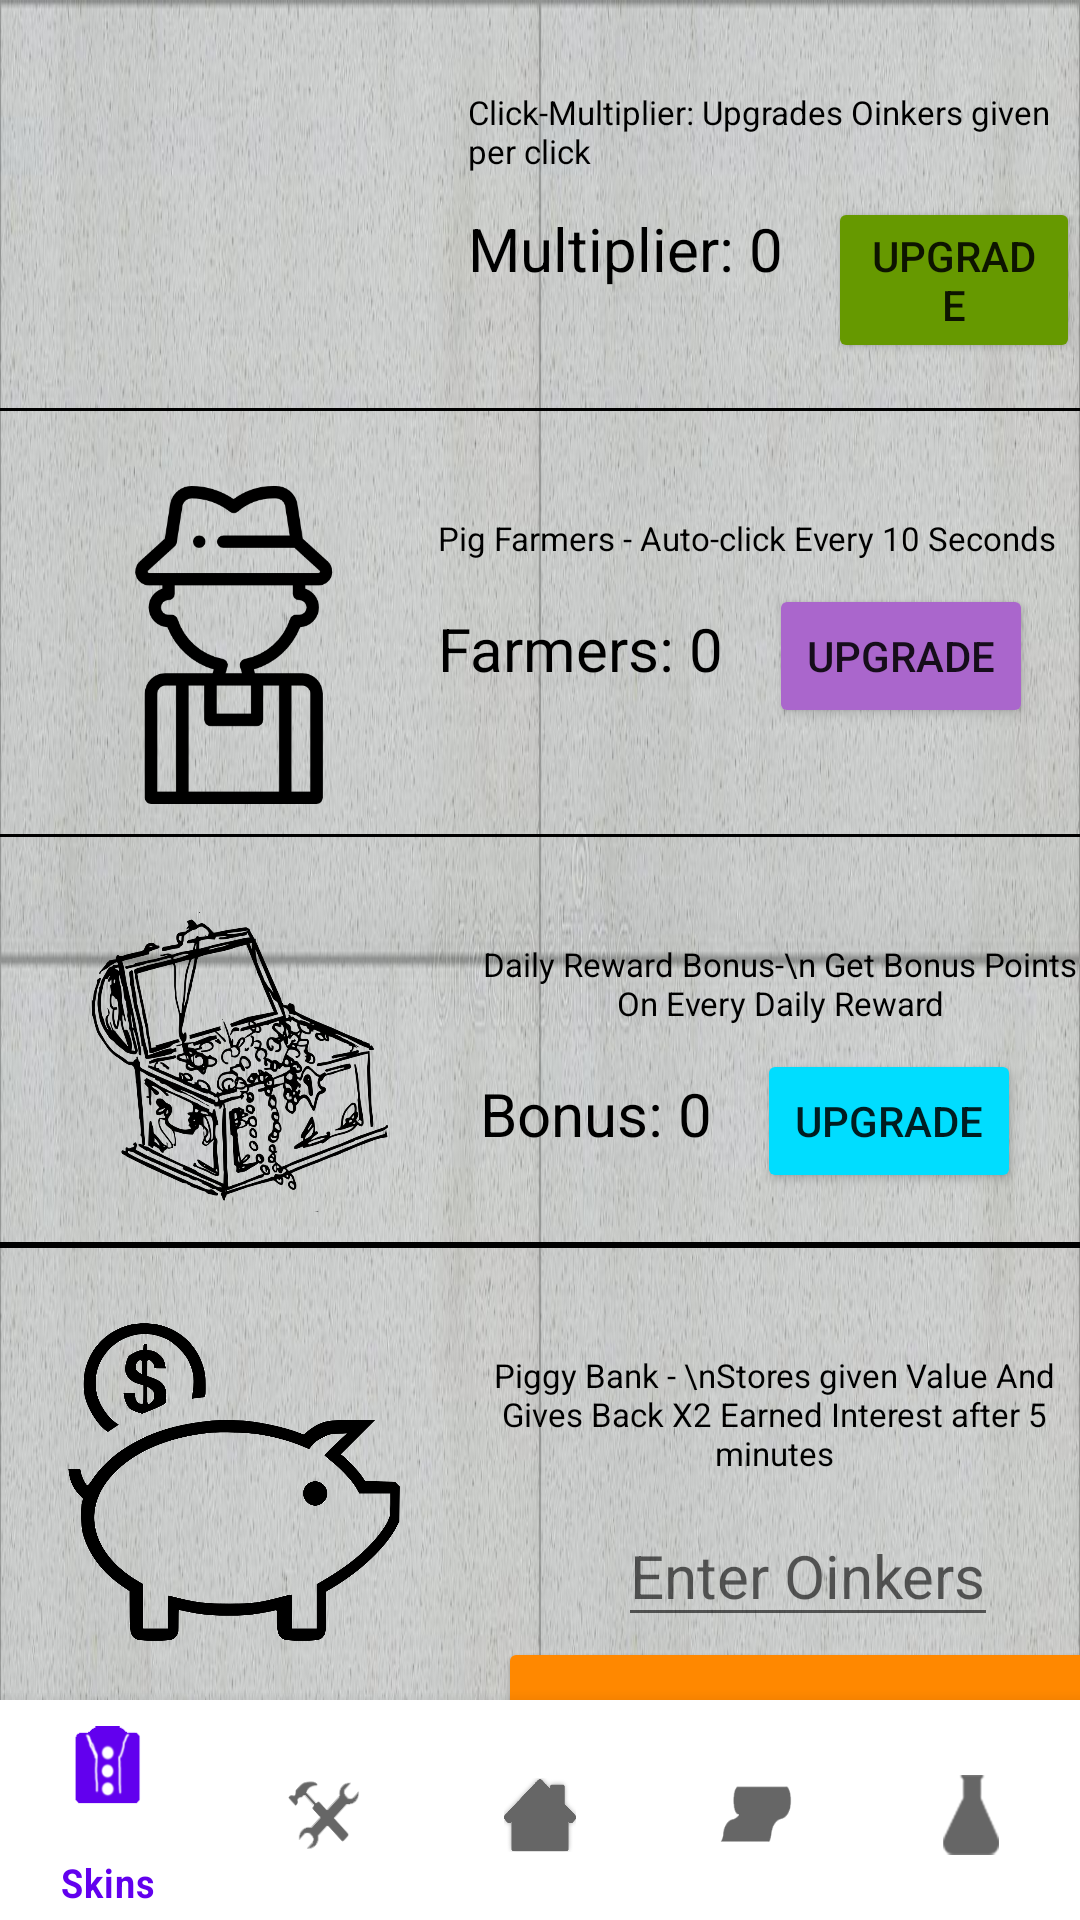

Locate icon controls on the screen. Image size 1080 x 1920, boxes as (x1, y1, x2, y2).
chestbonus: (60, 912, 420, 1212)
